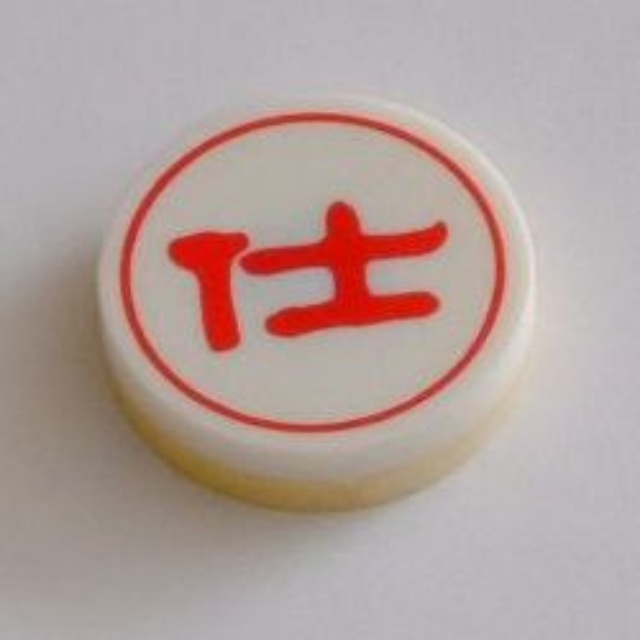red_si: (92, 81, 544, 511)
